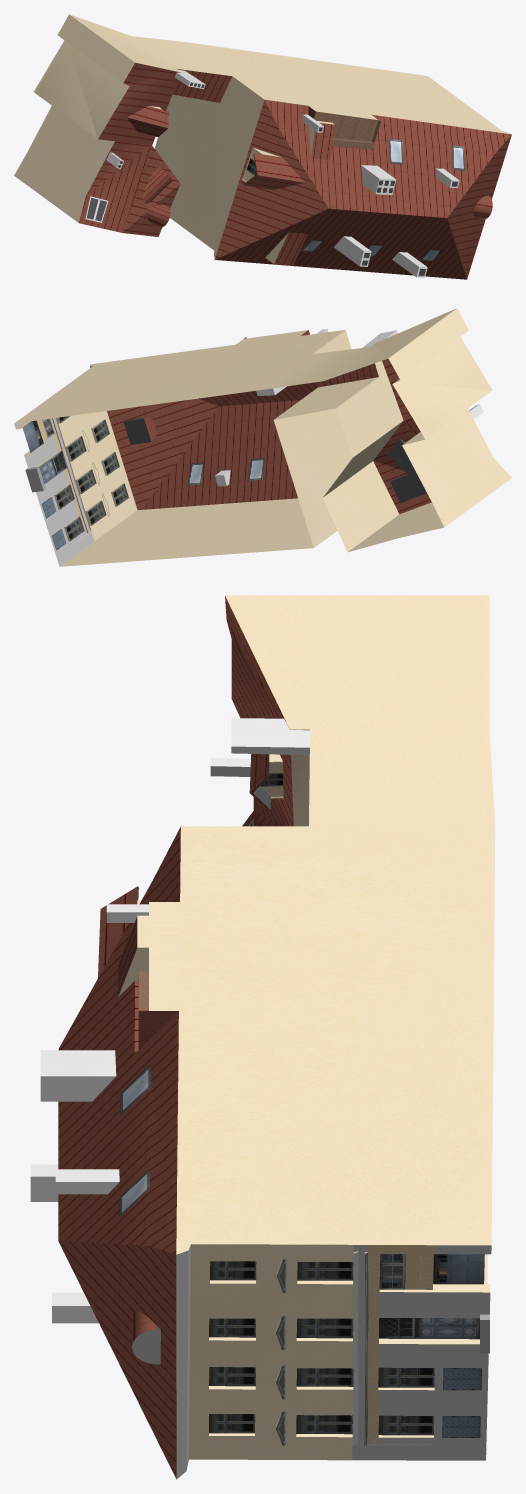
The model's file is Pikk_57.obj.
3 renders of one model, top to bottom at view 1: azimuth 30°, elevation 25°; view 2: azimuth 150°, elevation 25°; view 3: azimuth 270°, elevation 25°, orthographic. The views are drawn at different scales.
Visible parts, largest first — view 1: Pikk_57; view 2: Pikk_57; view 3: Pikk_57.
Part boxes in pixels (<box>): Pikk_57: <box>14,14,511,279</box>; Pikk_57: <box>14,308,511,566</box>; Pikk_57: <box>30,595,495,1479</box>.
Bounding box in the file's own units: 39.69 × 25.9 × 19.05.
